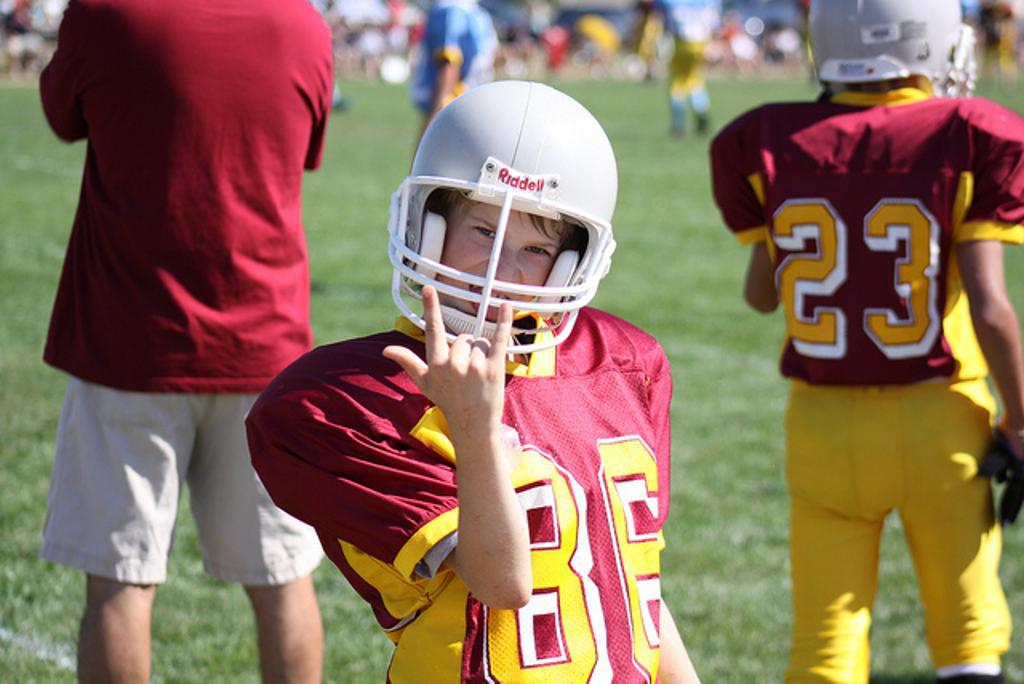face: (449, 203, 549, 339)
